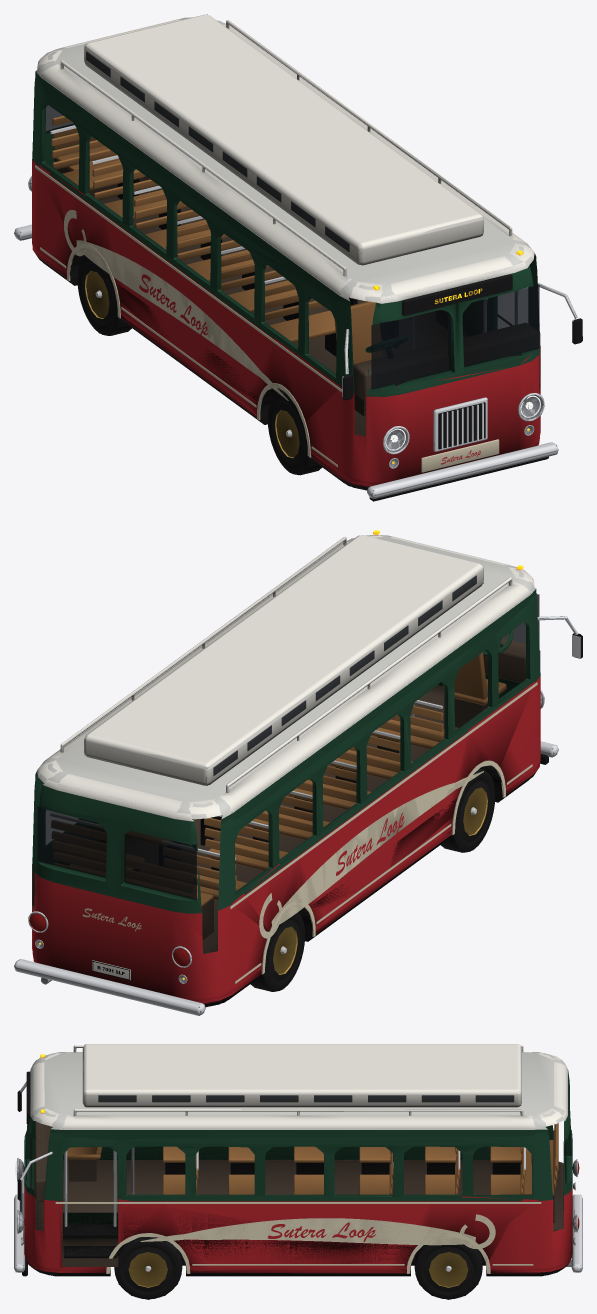
The model's file is loop.glb.
3 renders of one model, top to bottom at view 1: azimuth 30°, elevation 25°; view 2: azimuth 150°, elevation 25°; view 3: azimuth 270°, elevation 25°, orthographic. The views are drawn at different scales.
Visible parts, largest first — view 1: body, lod1_rest, lod1_glass, lod1_paint, wheel_fr, wheel_rr; view 2: body, lod1_rest, lod1_glass, lod1_paint, wheel_fr, wheel_rr; view 3: body, lod1_rest, lod1_paint, lod1_glass, wheel_fl, wheel_rl.
Boxes of the visible parts, x1,y1,x2,y2 form: body: (14,14,582,501); lod1_rest: (14,14,582,501); lod1_glass: (46,52,538,388); lod1_paint: (32,165,539,486); wheel_fr: (267,391,322,475); wheel_rr: (77,256,131,335); body: (14,530,582,1015); lod1_rest: (14,532,582,1015); lod1_glass: (38,576,538,898); lod1_paint: (32,681,539,1003); wheel_fr: (441,768,495,852); wheel_rr: (250,912,305,991); body: (14,1044,582,1276); lod1_rest: (14,1044,582,1299); lod1_paint: (25,1186,571,1273); lod1_glass: (98,1095,513,1101); wheel_fl: (114,1237,182,1299); wheel_rl: (414,1244,482,1299).
Size of the model in its own units: 2.84 by 2.83 by 7.39.
